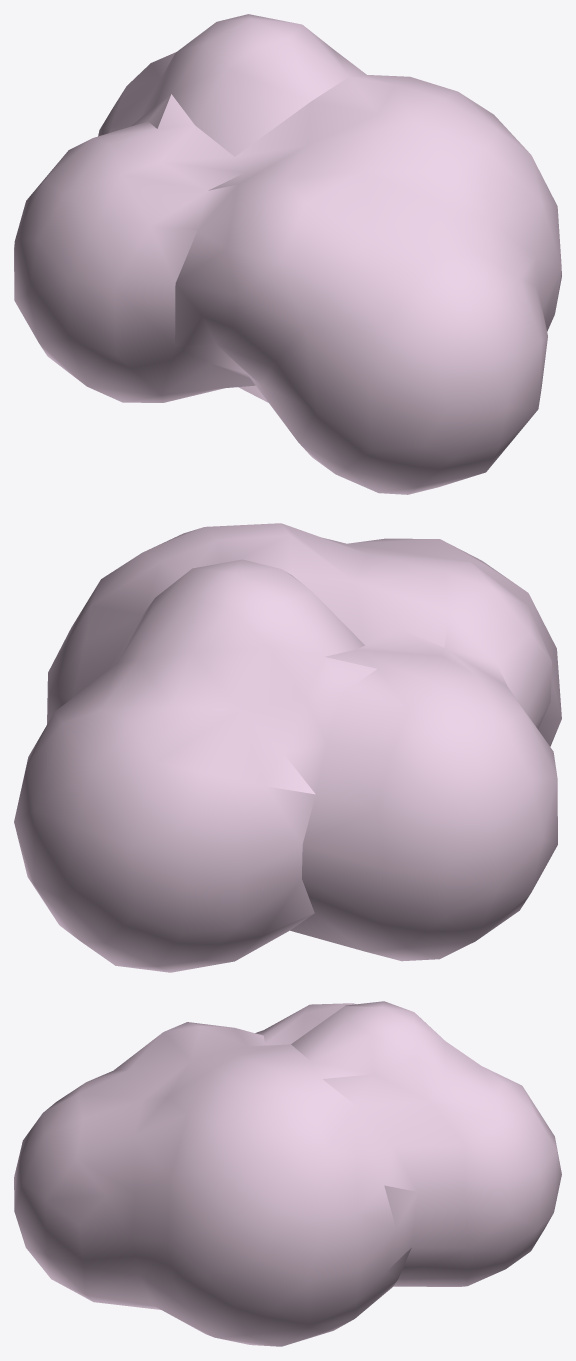
The model's file is cloud1.fbx.
3 views of the same model, one above another, from view 1: azimuth 30°, elevation 25°; view 2: azimuth 150°, elevation 25°; view 3: azimuth 270°, elevation 25° (orthographic). The views are drawn at different scales.
Parts seen in each view (by area): view 1: wolk1; view 2: wolk1; view 3: wolk1.
Part boxes in pixels (left/top/right/bottom): wolk1: left=14, top=14, right=561, bottom=494; wolk1: left=14, top=523, right=561, bottom=972; wolk1: left=14, top=1001, right=561, bottom=1346.
Bounding box in the file's own units: 85.21 × 63.5 × 105.
